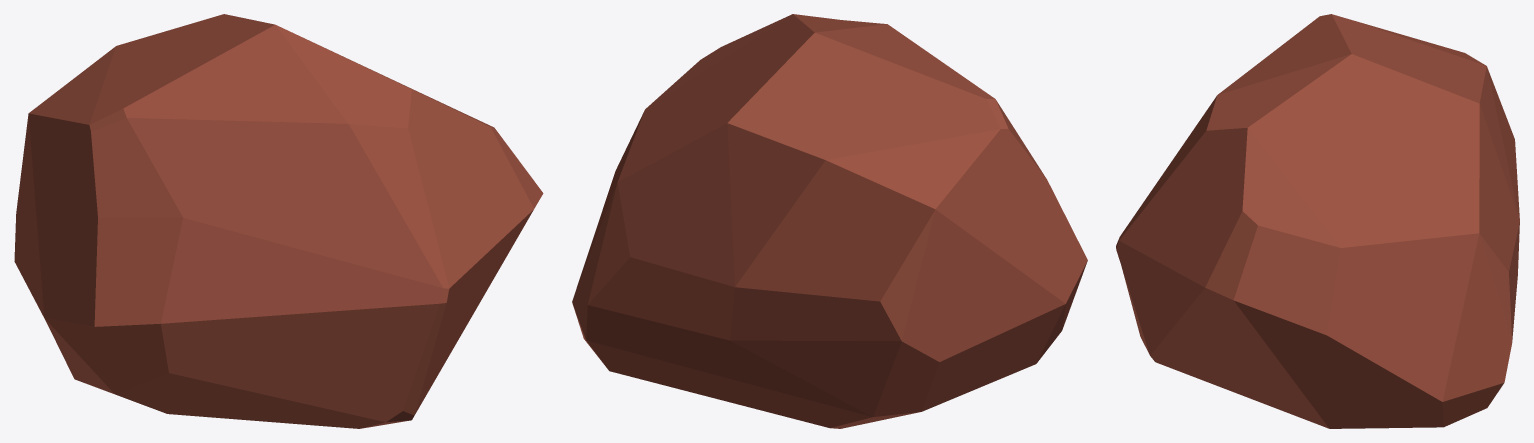
File: Rock_Small_003.fbx
3 renders of one model, left to right at view 1: azimuth 30°, elevation 25°; view 2: azimuth 150°, elevation 25°; view 3: azimuth 270°, elevation 25°, orthographic. The views are drawn at different scales.
Parts seen in each view (by area): view 1: Rock_Small_003; view 2: Rock_Small_003; view 3: Rock_Small_003.
Part boxes in pixels (bbox=[...]): Rock_Small_003: bbox=[14, 14, 543, 428]; Rock_Small_003: bbox=[572, 14, 1087, 428]; Rock_Small_003: bbox=[1116, 14, 1519, 428].
Bounding box in the file's own units: 207 × 144 × 173.
